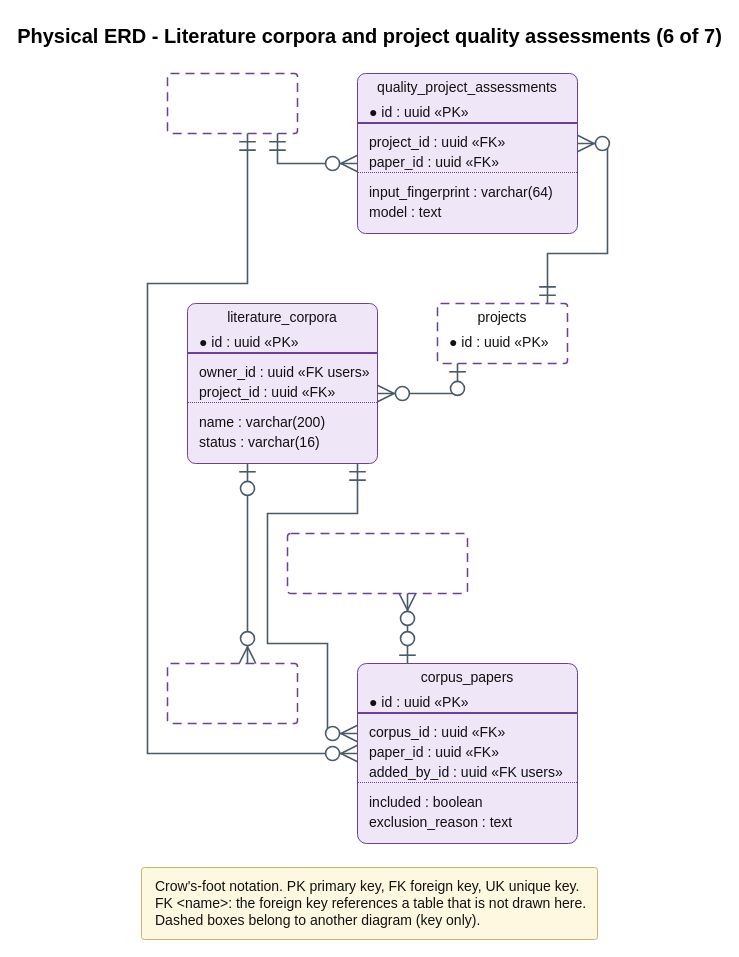
This 739x957 diagram has some shape labels left out. The centre of each missing label's shape, as x and y in pixels:
gap_evidence_records ● id : uuid «PK»: (377,563)
papers ● id : uuid «PK»: (232,103)
research_gaps ● id : uuid «PK»: (232,693)
